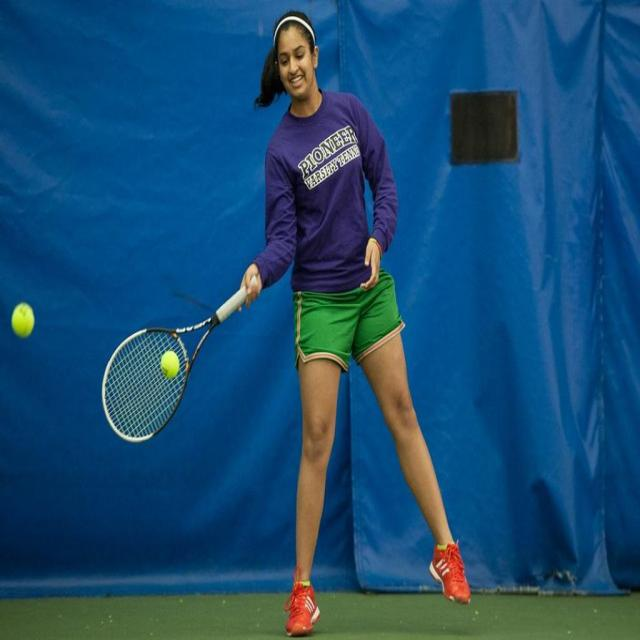nomask: (276, 28, 312, 98)
